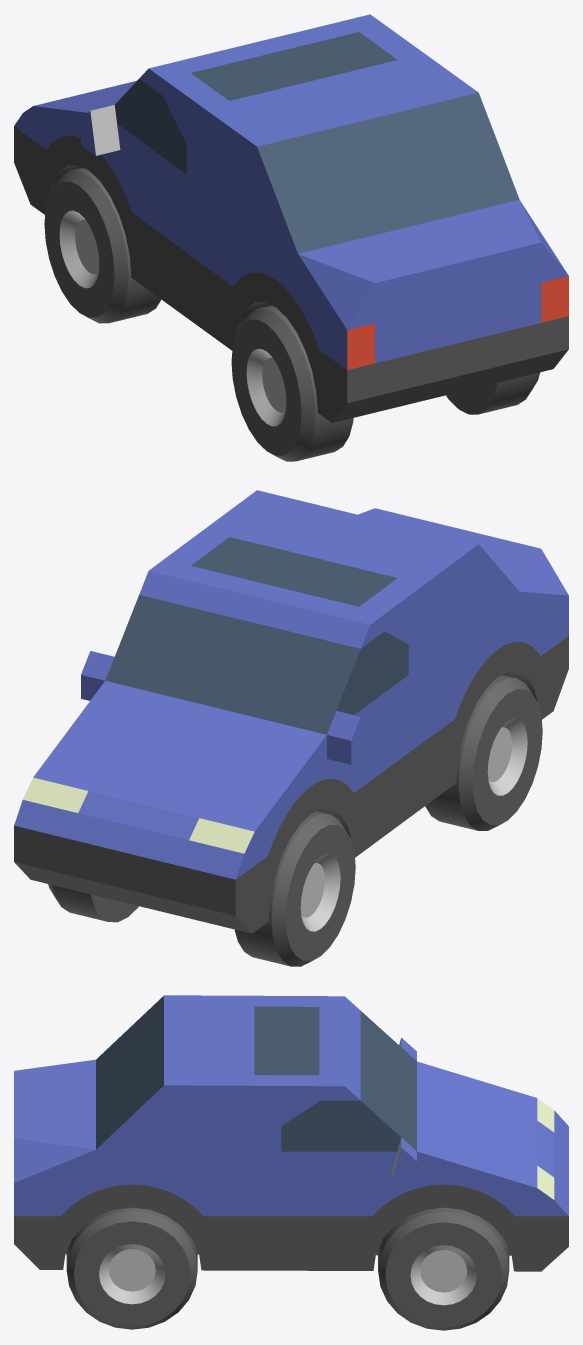
File: carLuxury.fbx
3 renders of one model, top to bottom at view 1: azimuth 30°, elevation 25°; view 2: azimuth 150°, elevation 25°; view 3: azimuth 270°, elevation 25°, orthographic. The views are drawn at different scales.
Visible parts, largest first — view 1: body 5, wheelBackLeft 5, wheelFrontLeft 5, wheelBackRight 5; view 2: body 5, wheelFrontLeft 5, wheelBackLeft 5, wheelFrontRight 5; view 3: body 5, wheelFrontRight 5, wheelBackRight 5.
Part boxes in pixels (bbox=[...]): body 5: bbox=[14, 14, 568, 422]; wheelBackLeft 5: bbox=[231, 305, 353, 461]; wheelFrontLeft 5: bbox=[44, 167, 161, 323]; wheelBackRight 5: bbox=[446, 372, 539, 414]; body 5: bbox=[14, 490, 568, 933]; wheelFrontLeft 5: bbox=[234, 811, 355, 966]; wheelBackLeft 5: bbox=[425, 675, 542, 830]; wheelFrontRight 5: bbox=[48, 884, 138, 922]; body 5: bbox=[14, 995, 568, 1271]; wheelFrontRight 5: bbox=[378, 1207, 509, 1330]; wheelBackRight 5: bbox=[66, 1207, 197, 1329].
Bounding box in the file's own units: 5.55 × 5.8 × 11.85.
